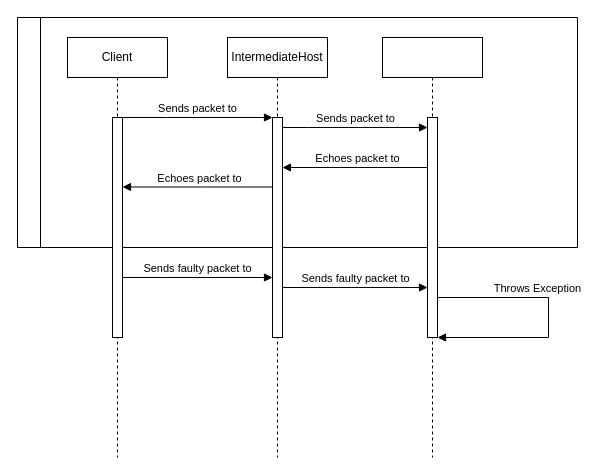
The diagram is 598 pixels wide and 475 high, and some of its shapes have lost their labels. Each missing label, with the box of its shape:
Loops 10 times: (16, 16, 578, 248)
Server: (382, 36, 482, 458)
